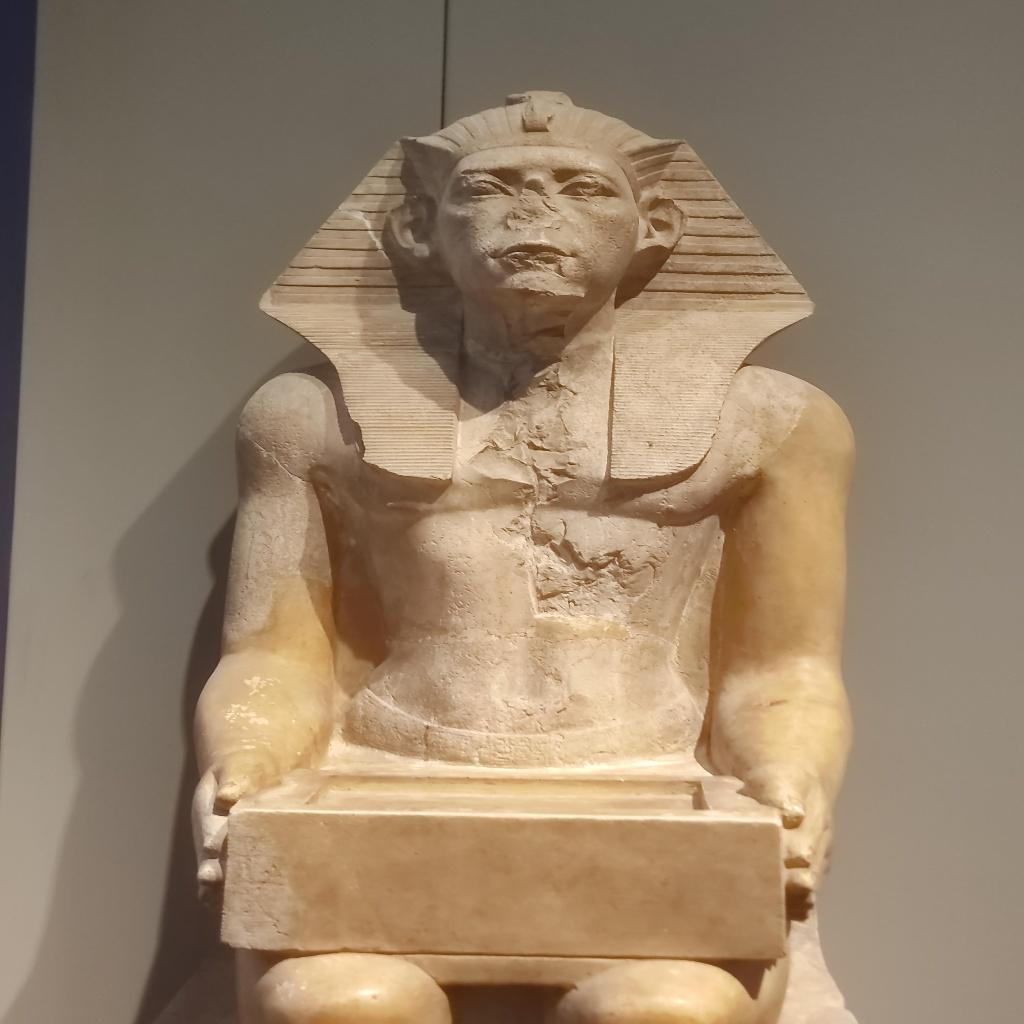Amenhotep III with Plate: (196, 80, 863, 1024)
